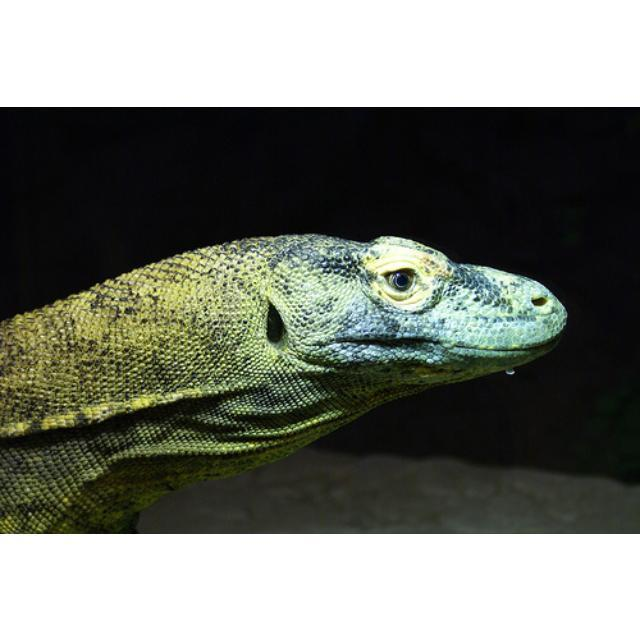KomodoDragon: (0, 227, 568, 531)
